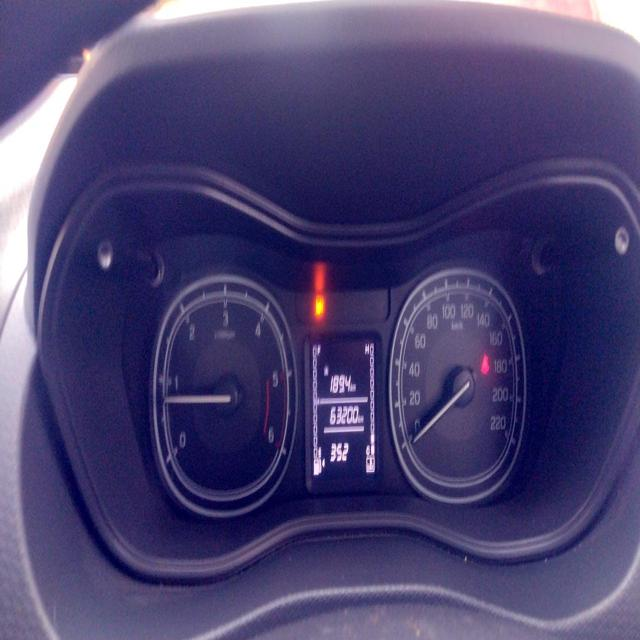odometer: (327, 400, 360, 428)
